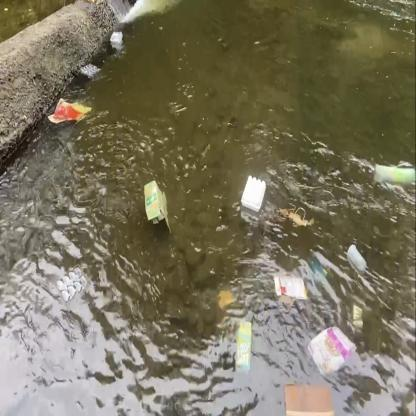trash: (304, 323, 358, 379), (280, 380, 335, 416), (54, 262, 92, 308), (142, 178, 172, 234), (370, 158, 416, 192), (272, 272, 309, 311), (48, 96, 93, 127), (233, 316, 255, 376), (239, 172, 268, 216), (346, 244, 369, 280), (345, 301, 365, 336), (76, 61, 104, 80), (108, 29, 126, 48)
